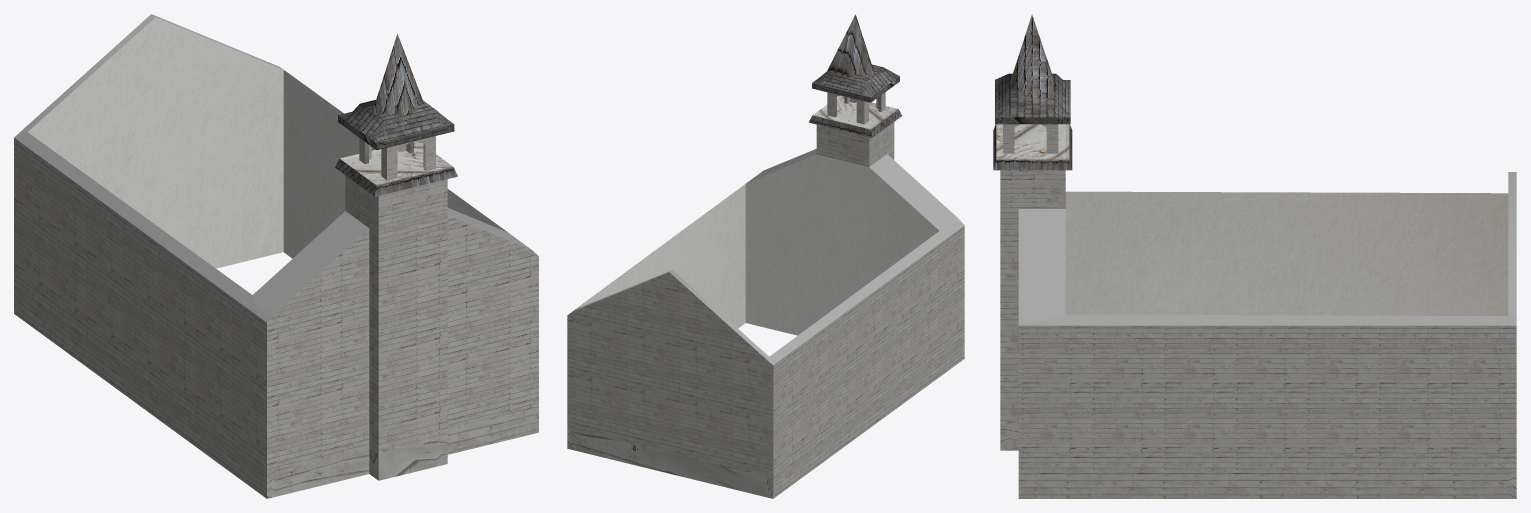
The model's file is ChurchTextured.fbx.
The picture shows the model from 3 angles, left to right: view 1: azimuth 30°, elevation 25°; view 2: azimuth 150°, elevation 25°; view 3: azimuth 270°, elevation 25°; orthographic projection. The views are drawn at different scales.
Parts seen in each view (by area): view 1: ChurchBuilding, ChurchSpireRoof, ChurchSpireArch; view 2: ChurchBuilding, ChurchSpireRoof, pasted__pasted__ChurchSpireArch; view 3: ChurchBuilding, ChurchSpireRoof, pasted__ChurchSpireArch.
Boxes of the visible parts, x1=… form: ChurchBuilding: x1=14, y1=14, x2=538, y2=498; ChurchSpireRoof: x1=338, y1=34, x2=454, y2=150; ChurchSpireArch: x1=387, y1=136, x2=435, y2=180; ChurchBuilding: x1=567, y1=95, x2=964, y2=498; ChurchSpireRoof: x1=812, y1=14, x2=899, y2=102; pasted__pasted__ChurchSpireArch: x1=827, y1=92, x2=864, y2=124; ChurchBuilding: x1=993, y1=124, x2=1516, y2=498; ChurchSpireRoof: x1=995, y1=14, x2=1070, y2=124; pasted__ChurchSpireArch: x1=1003, y1=124, x2=1057, y2=153.
Bounding box in the file's own units: 67.35 × 101 × 114.
